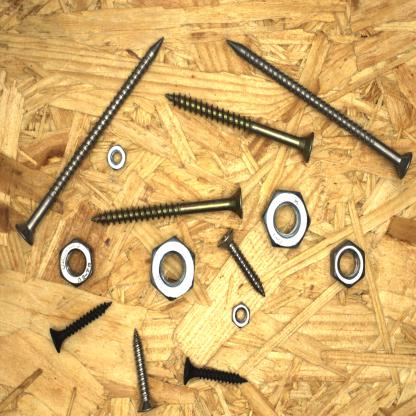screw: (13, 33, 168, 249), (224, 35, 416, 182), (164, 88, 318, 164), (90, 183, 246, 221), (46, 297, 116, 356), (215, 225, 268, 300), (130, 325, 159, 415), (181, 354, 250, 388)
